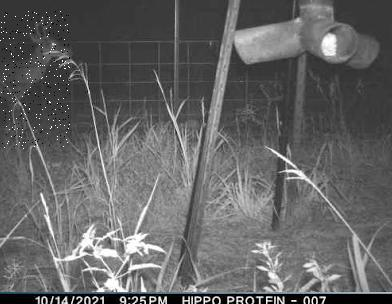Deer: (0, 11, 70, 149)
